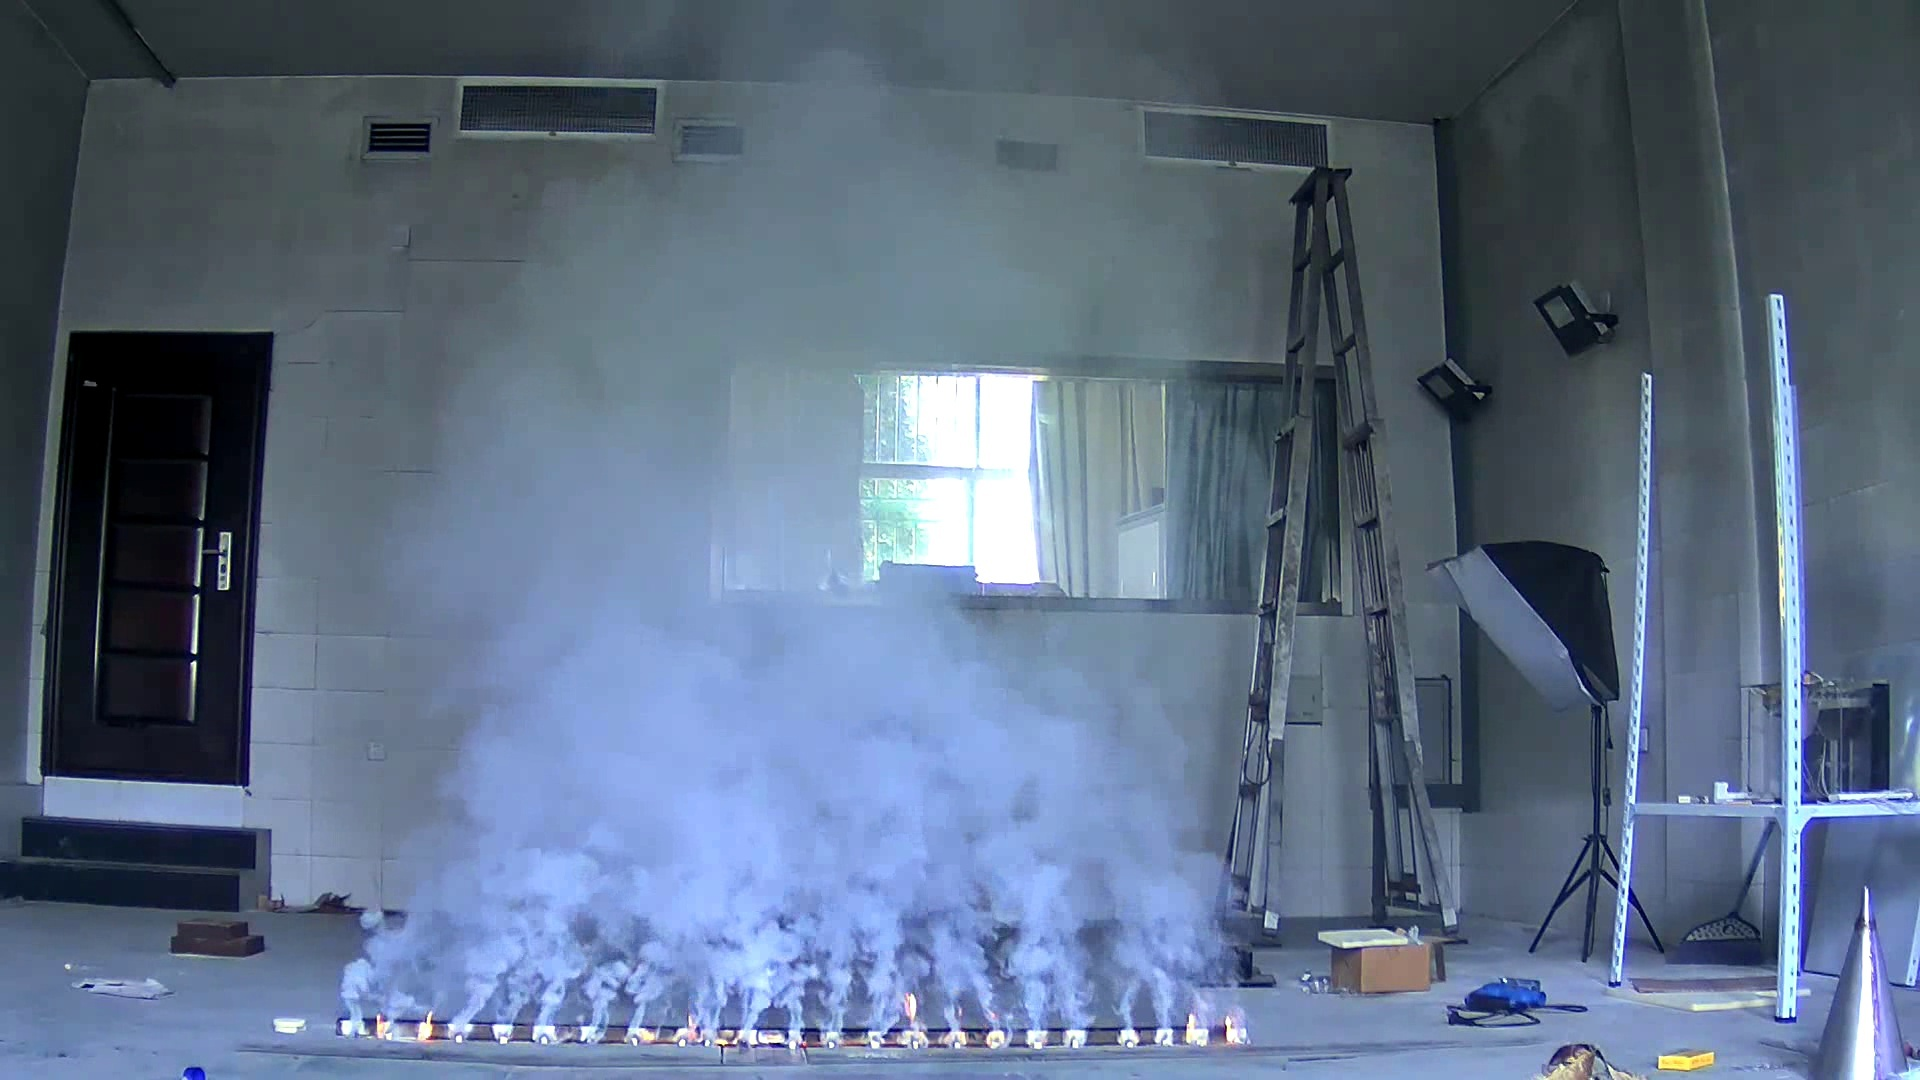smoke: (340, 582, 1240, 1033)
